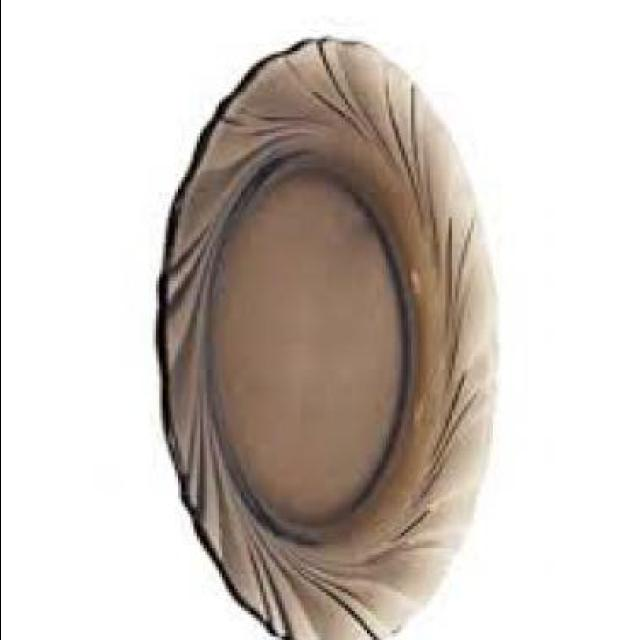kaca: (158, 41, 498, 640)
